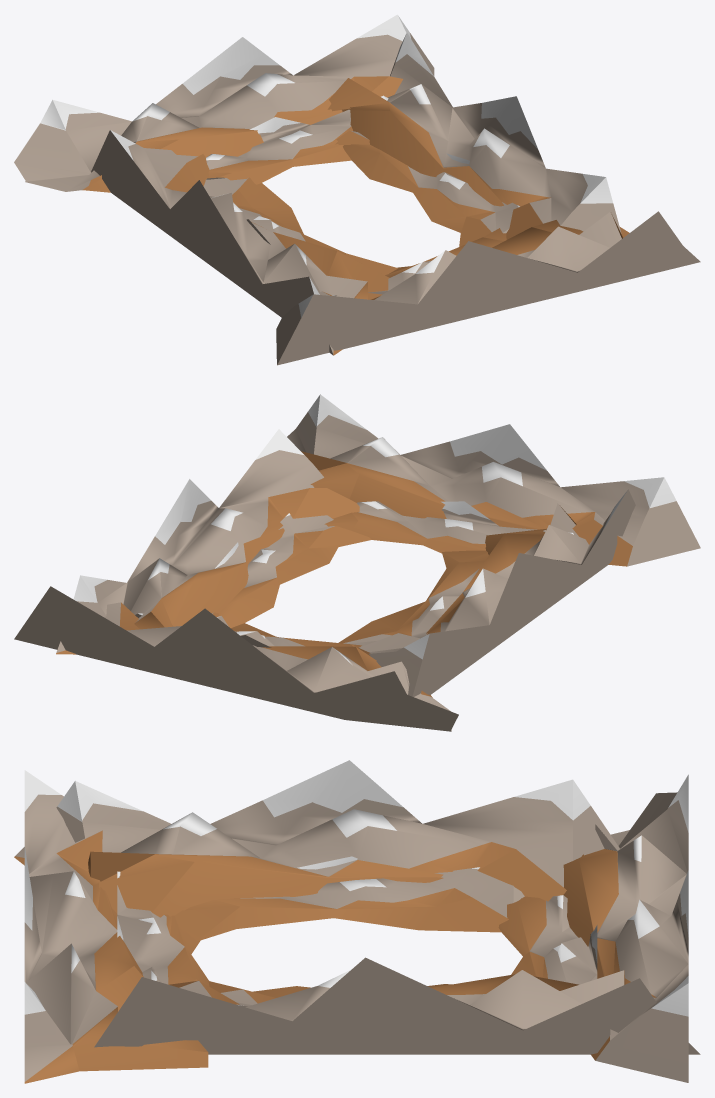
Rendered from mountains.fbx.
The picture shows the model from 3 angles, top to bottom: view 1: azimuth 30°, elevation 25°; view 2: azimuth 150°, elevation 25°; view 3: azimuth 270°, elevation 25°; orthographic projection. The views are drawn at different scales.
Visible parts, largest first — view 1: pCube8; view 2: pCube8; view 3: pCube8.
Part boxes in pixels (x1,y1,x2,y2): pCube8: (14, 14, 700, 365); pCube8: (14, 394, 700, 731); pCube8: (14, 760, 700, 1083).
Bounding box in the file's own units: 77.24 × 13.21 × 84.66.
